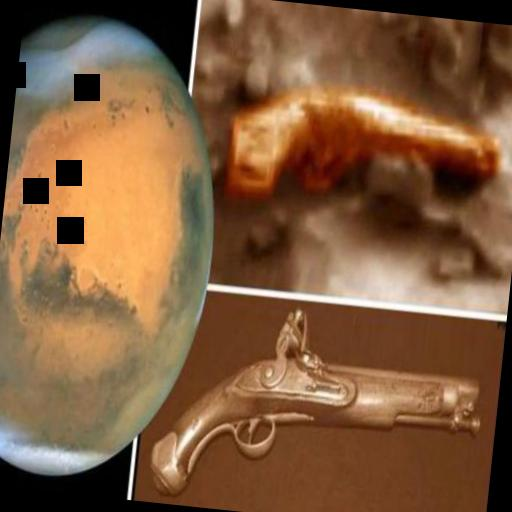Handgun: (148, 297, 489, 512)
